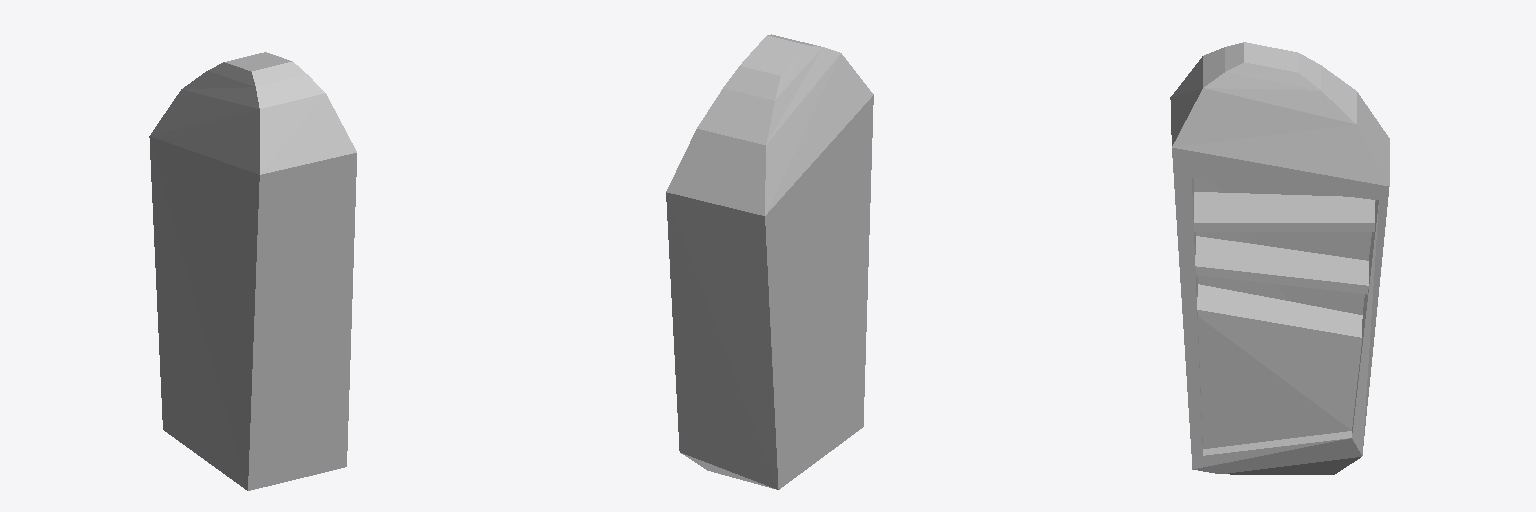
File: ASSET_machine_v1.obj
3 views of the same model, side by side, from view 1: azimuth 30°, elevation 25°; view 2: azimuth 150°, elevation 25°; view 3: azimuth 270°, elevation 25° (orthographic).
Visible parts, largest first — view 1: MACHINE.002_Cube.011; view 2: MACHINE.002_Cube.011; view 3: MACHINE.002_Cube.011.
Part boxes in pixels (x1,y1,x2,y2): MACHINE.002_Cube.011: (149,52,356,490); MACHINE.002_Cube.011: (666,34,873,489); MACHINE.002_Cube.011: (1170,42,1389,474).
Bounding box in the file's own units: 0.853 × 3.19 × 1.56.